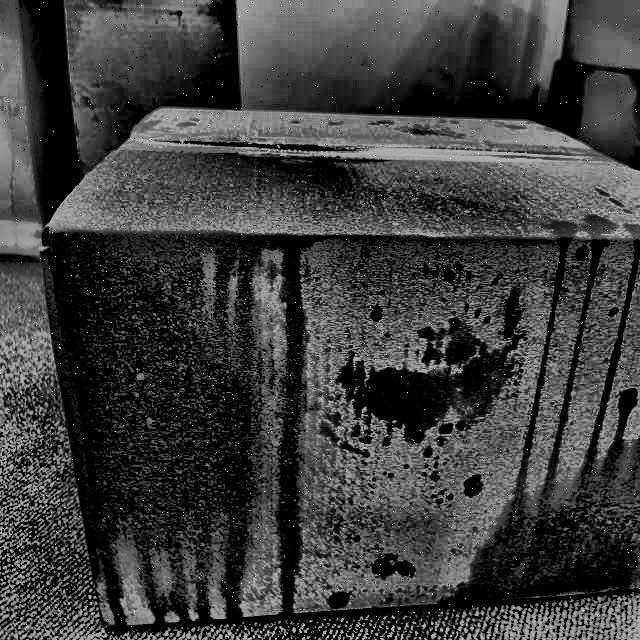box: (30, 102, 640, 639)
wet: (77, 144, 267, 640), (420, 430, 640, 602), (318, 310, 515, 442)
